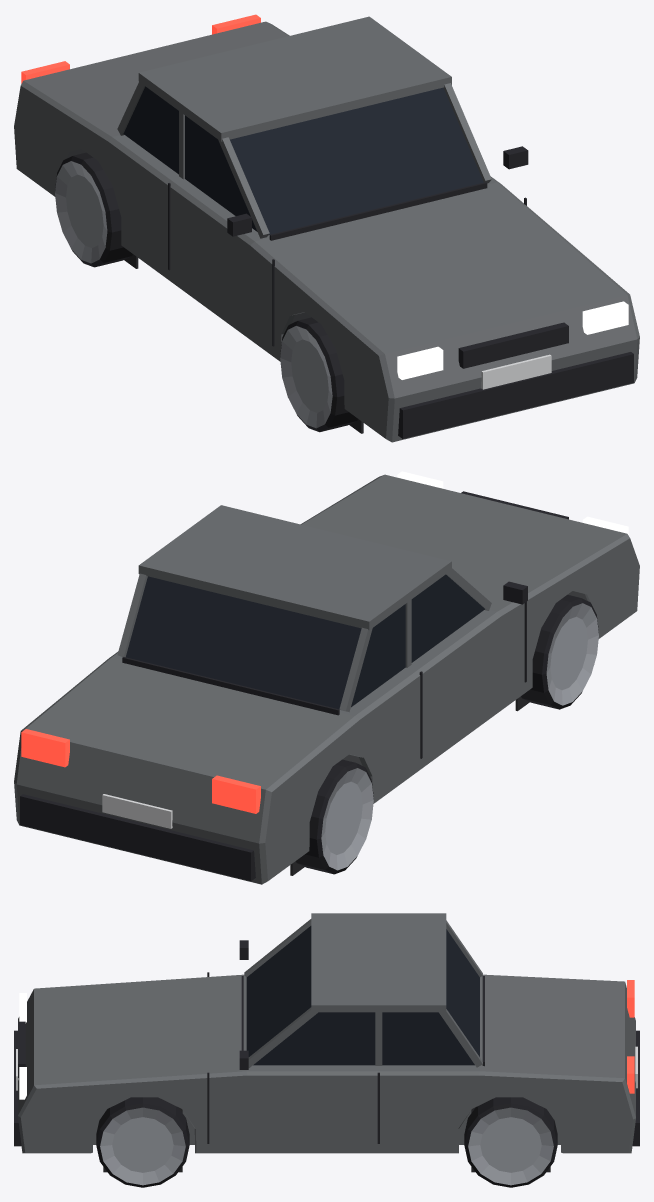
Rendered from corva_s.glb.
3 views of the same model, one above another, from view 1: azimuth 30°, elevation 25°; view 2: azimuth 150°, elevation 25°; view 3: azimuth 270°, elevation 25° (orthographic). The views are drawn at different scales.
Visible parts, largest first — view 1: corva_s, wheel_RR, wheel_FR; view 2: corva_s, wheel_FR, wheel_RR; view 3: corva_s, wheel_FL, wheel_RL.
Boxes of the visible parts, <box> form: corva_s: <box>14,14,639,442</box>; wheel_RR: <box>55,152,132,267</box>; wheel_FR: <box>280,317,357,432</box>; corva_s: <box>14,471,639,884</box>; wheel_FR: <box>521,594,598,709</box>; wheel_RR: <box>296,759,373,874</box>; corva_s: <box>14,913,639,1172</box>; wheel_FL: <box>96,1097,189,1187</box>; wheel_RL: <box>464,1097,557,1187</box>.
Size of the model in its own units: 2.15 by 1.5 by 4.83.
